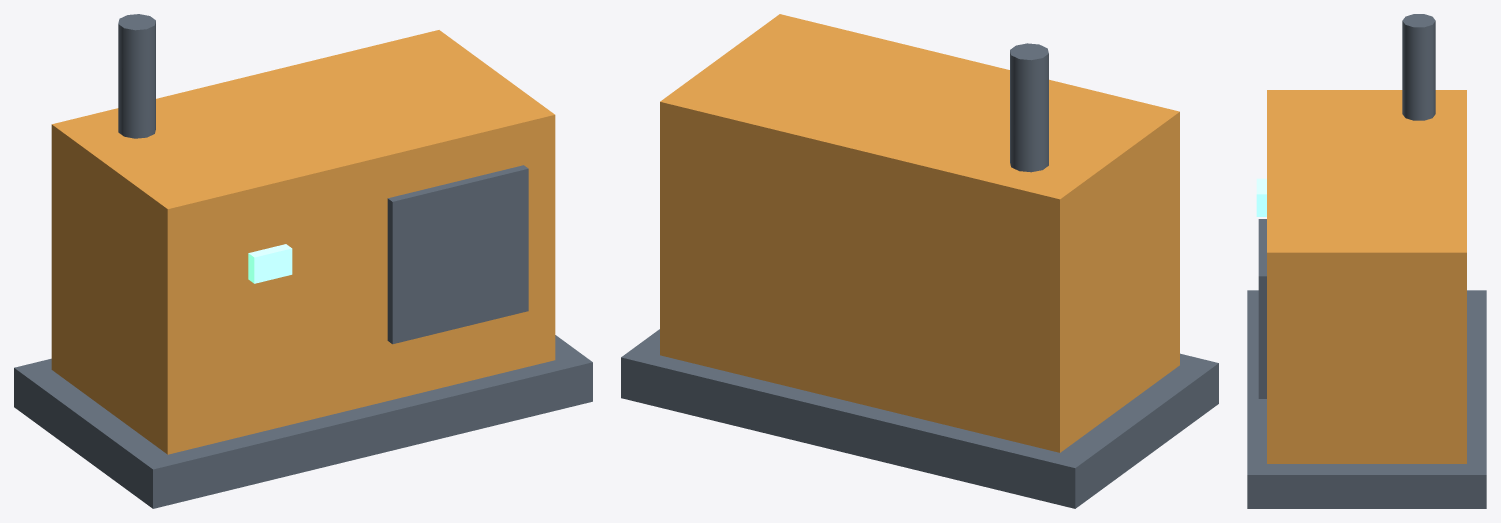
The model's file is generator_industrial.glb.
3 renders of one model, left to right at view 1: azimuth 30°, elevation 25°; view 2: azimuth 150°, elevation 25°; view 3: azimuth 270°, elevation 25°, orthographic. The views are drawn at different scales.
Visible parts, largest first — view 1: generator_industrial; view 2: generator_industrial; view 3: generator_industrial.
Boxes of the visible parts, x1,y1,x2,y2 form: generator_industrial: (14, 14, 592, 508); generator_industrial: (621, 14, 1218, 508); generator_industrial: (1247, 14, 1486, 508).
Bounding box in the file's own units: 2.1 × 1.8 × 1.15.
